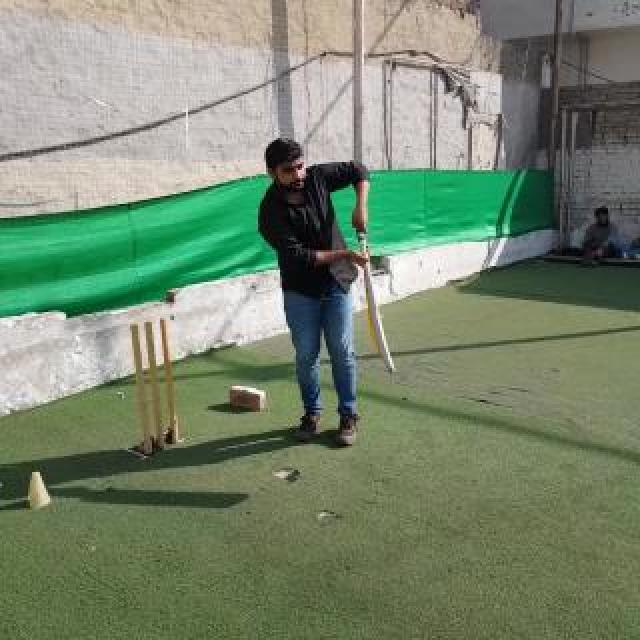bat: (356, 220, 396, 374)
